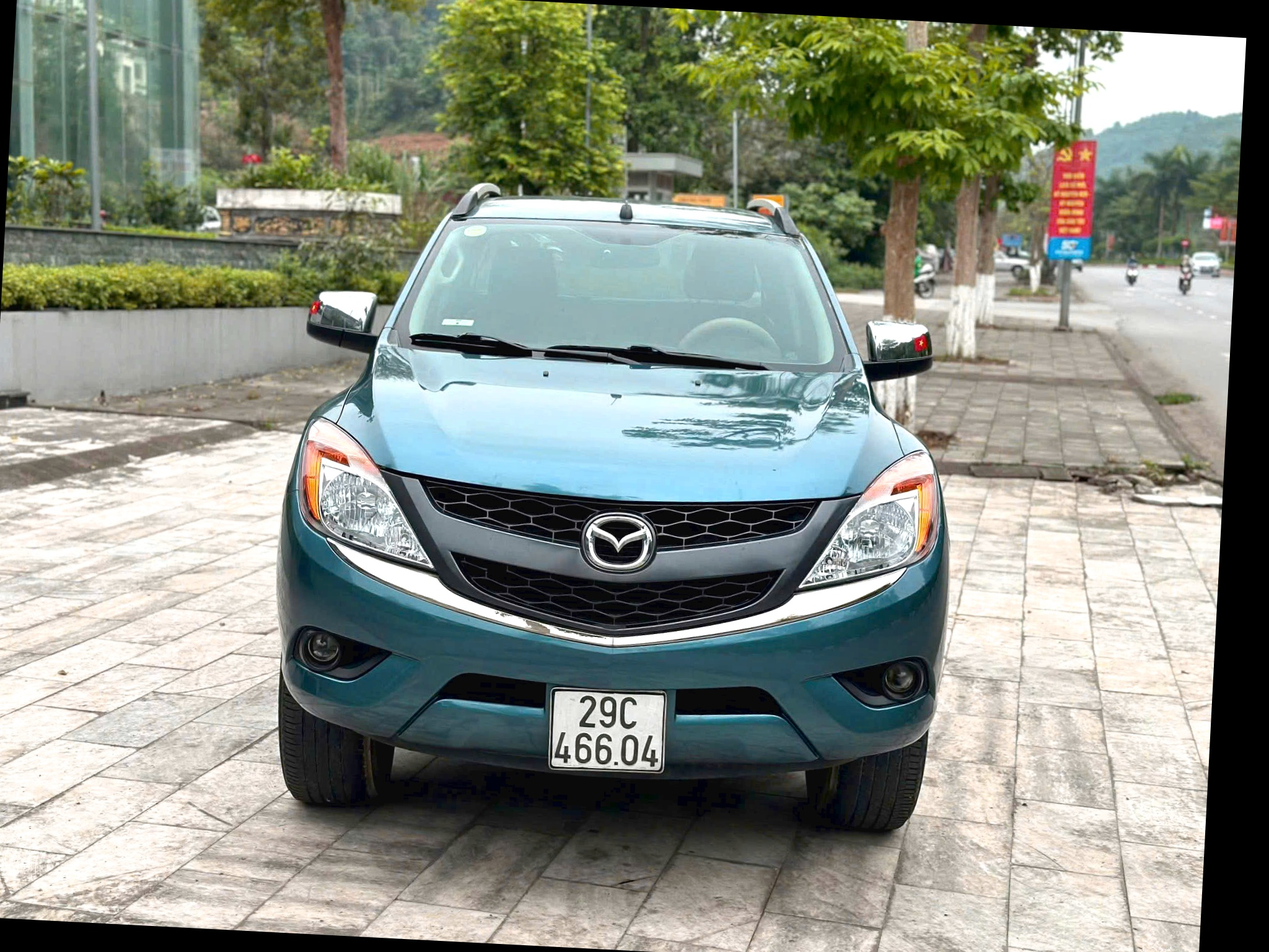Bien-so: (564, 691, 700, 787)
